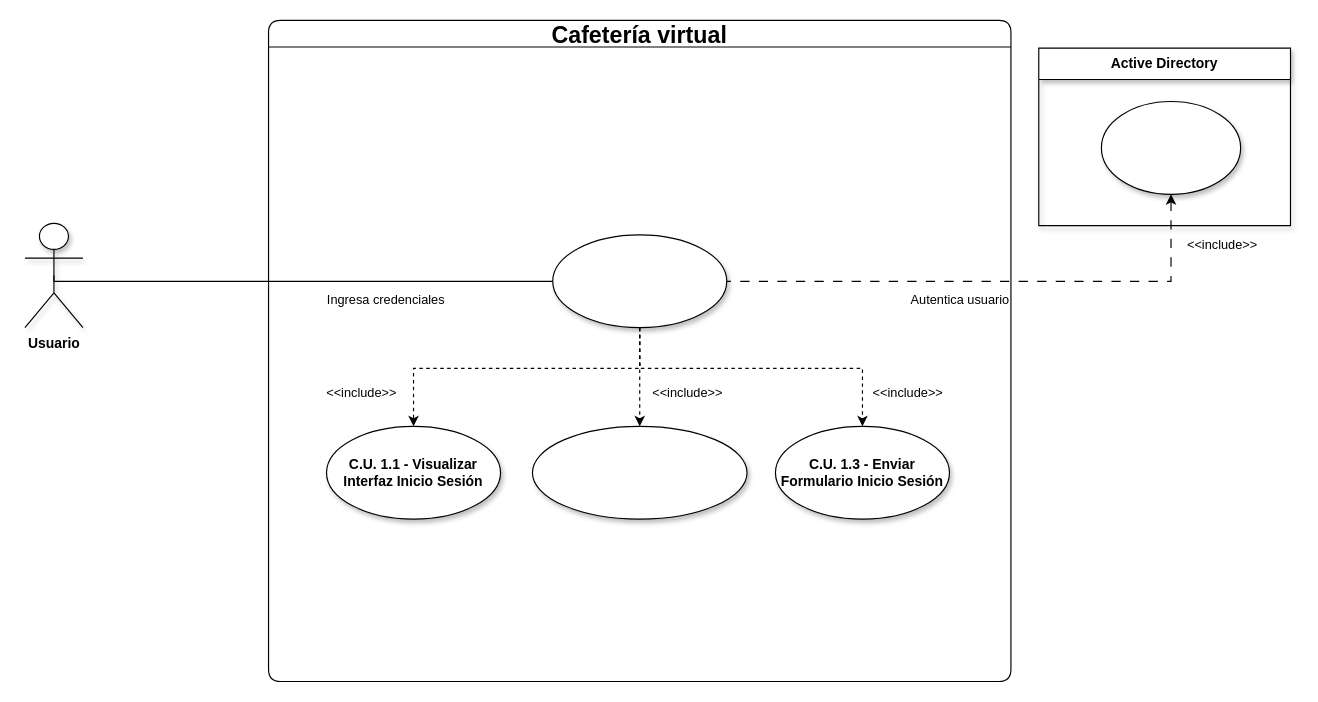
Some shapes in this 1318 by 702 pixel diagram are drawn without their labels. Here are the shapes that lost their labels. From the top down, the centre of each, then its label:
At (1172,149): "Autenticar".
At (640,282): "C.U. 1 - Iniciar Sesión".
At (640,473): "C.U. 1.2 - Rellenar Campos de Formulario de Inicio Sesión".
